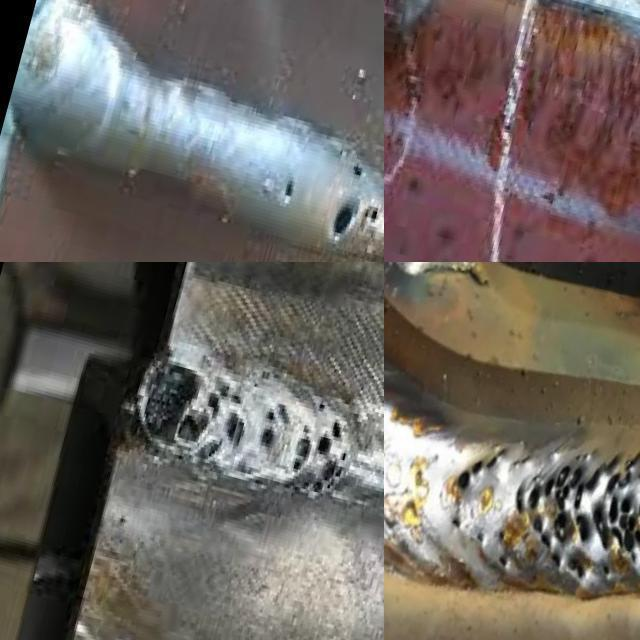defect: (512, 444, 640, 588), (132, 353, 254, 473), (285, 411, 358, 501), (453, 441, 510, 496), (328, 201, 381, 243), (256, 397, 293, 455), (347, 149, 368, 187), (278, 174, 300, 207), (449, 509, 464, 533), (475, 528, 485, 548), (496, 553, 508, 569), (497, 528, 506, 541)
